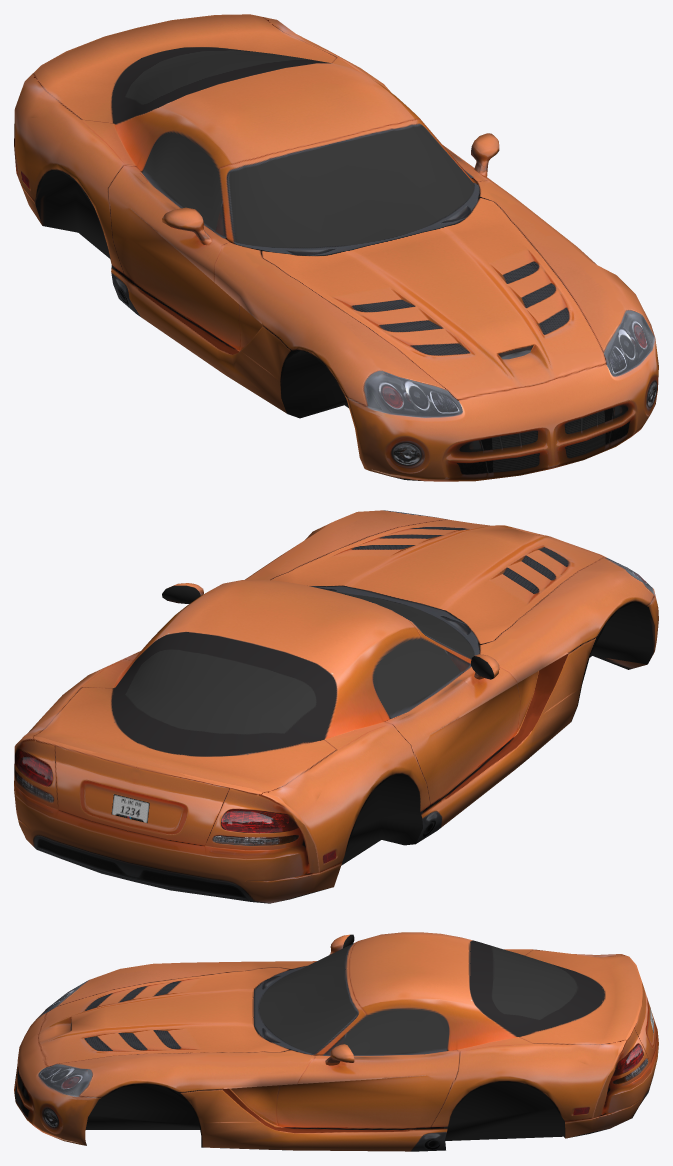
File: Doge 2010.fbx
3 renders of one model, top to bottom at view 1: azimuth 30°, elevation 25°; view 2: azimuth 150°, elevation 25°; view 3: azimuth 270°, elevation 25°, orthographic. The views are drawn at different scales.
Parts seen in each view (by area): view 1: Car_doge1; view 2: Car_doge1; view 3: Car_doge1.
Boxes of the visible parts, box(x1,y1,x2,y2) form: Car_doge1: box(14, 14, 658, 481); Car_doge1: box(14, 510, 658, 903); Car_doge1: box(14, 932, 658, 1151).
Bounding box in the file's own units: 199 × 108 × 445.
Materials: 1 (1 with a texture image).
